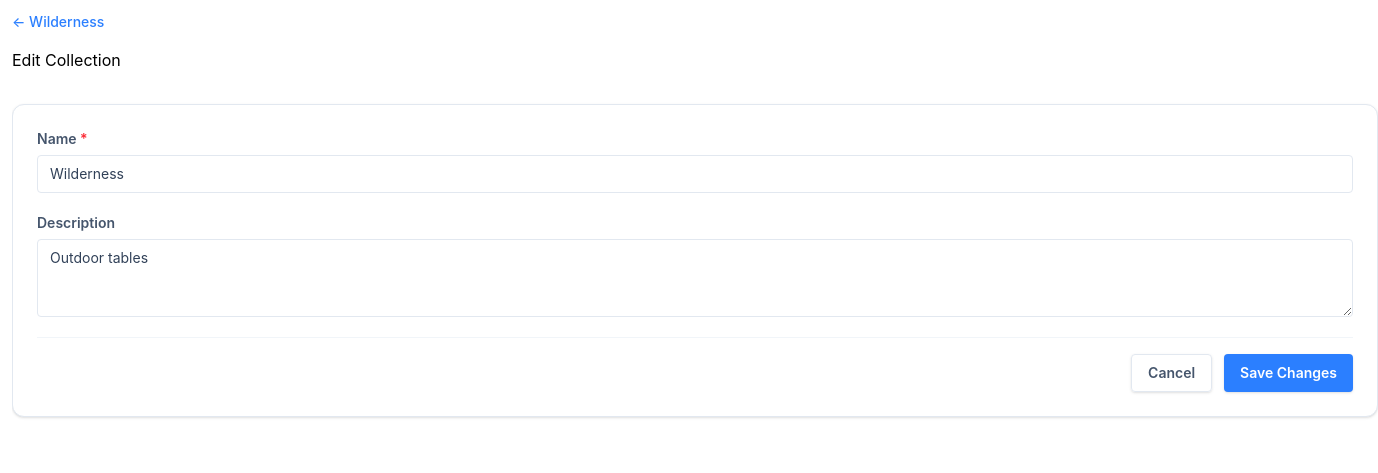
Test case: CollectionEdit › shows validation error when name is empty
Clear the field labelled "Name *". click: x=695, y=174
box: x1=37 y1=155 x2=1353 y2=193
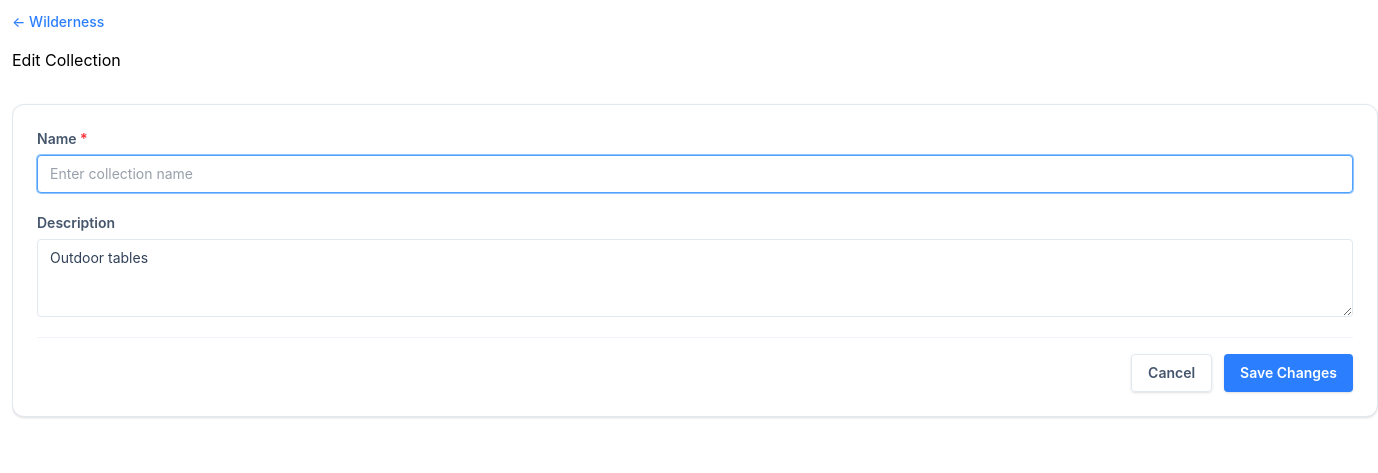
Click the button "Save Changes". click: x=1289, y=373
box: x1=1224 y1=354 x2=1353 y2=392
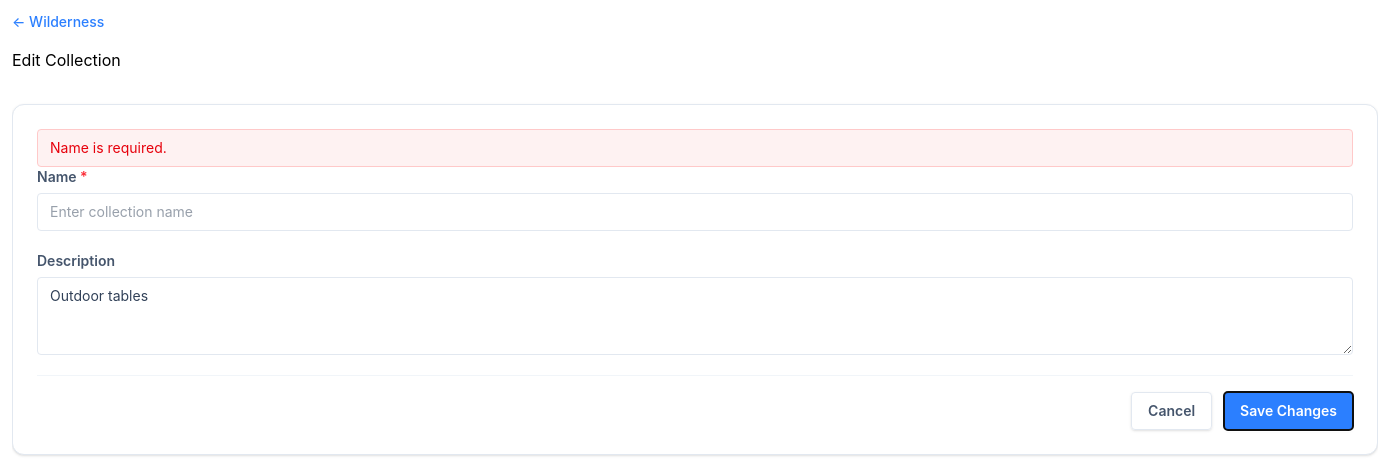
Check: the text "Name is required." is shown, box x1=37 y1=129 x2=1353 y2=167
